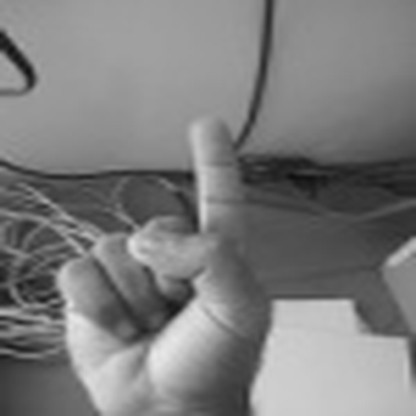d: (53, 109, 273, 416)
